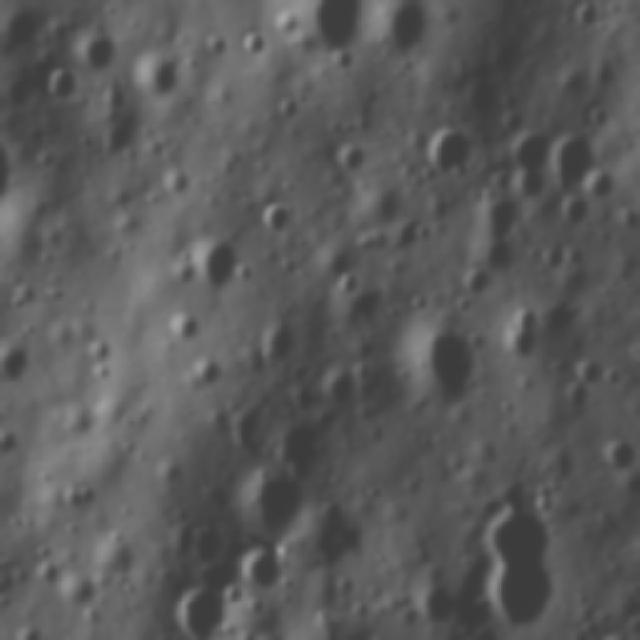crater: (473, 491, 559, 640), (402, 307, 487, 413), (237, 465, 315, 540), (184, 223, 256, 294), (419, 111, 490, 180), (268, 409, 335, 476), (165, 584, 229, 640), (135, 42, 191, 104), (158, 306, 210, 356), (239, 542, 284, 596), (57, 564, 108, 610), (36, 59, 82, 110), (600, 426, 640, 482), (75, 26, 120, 74), (184, 355, 231, 399), (452, 261, 497, 305), (257, 194, 297, 243), (330, 135, 376, 177), (558, 190, 599, 228), (326, 262, 366, 300), (234, 26, 272, 63), (270, 89, 304, 128), (597, 617, 640, 640), (252, 631, 293, 640), (94, 638, 138, 640)
